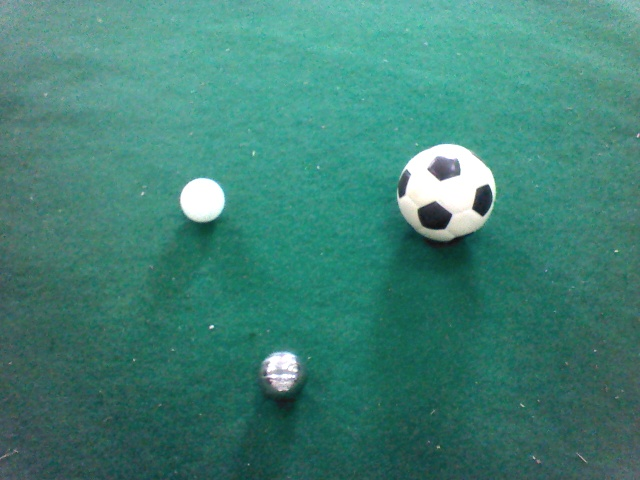ball: (140, 23, 222, 106)
